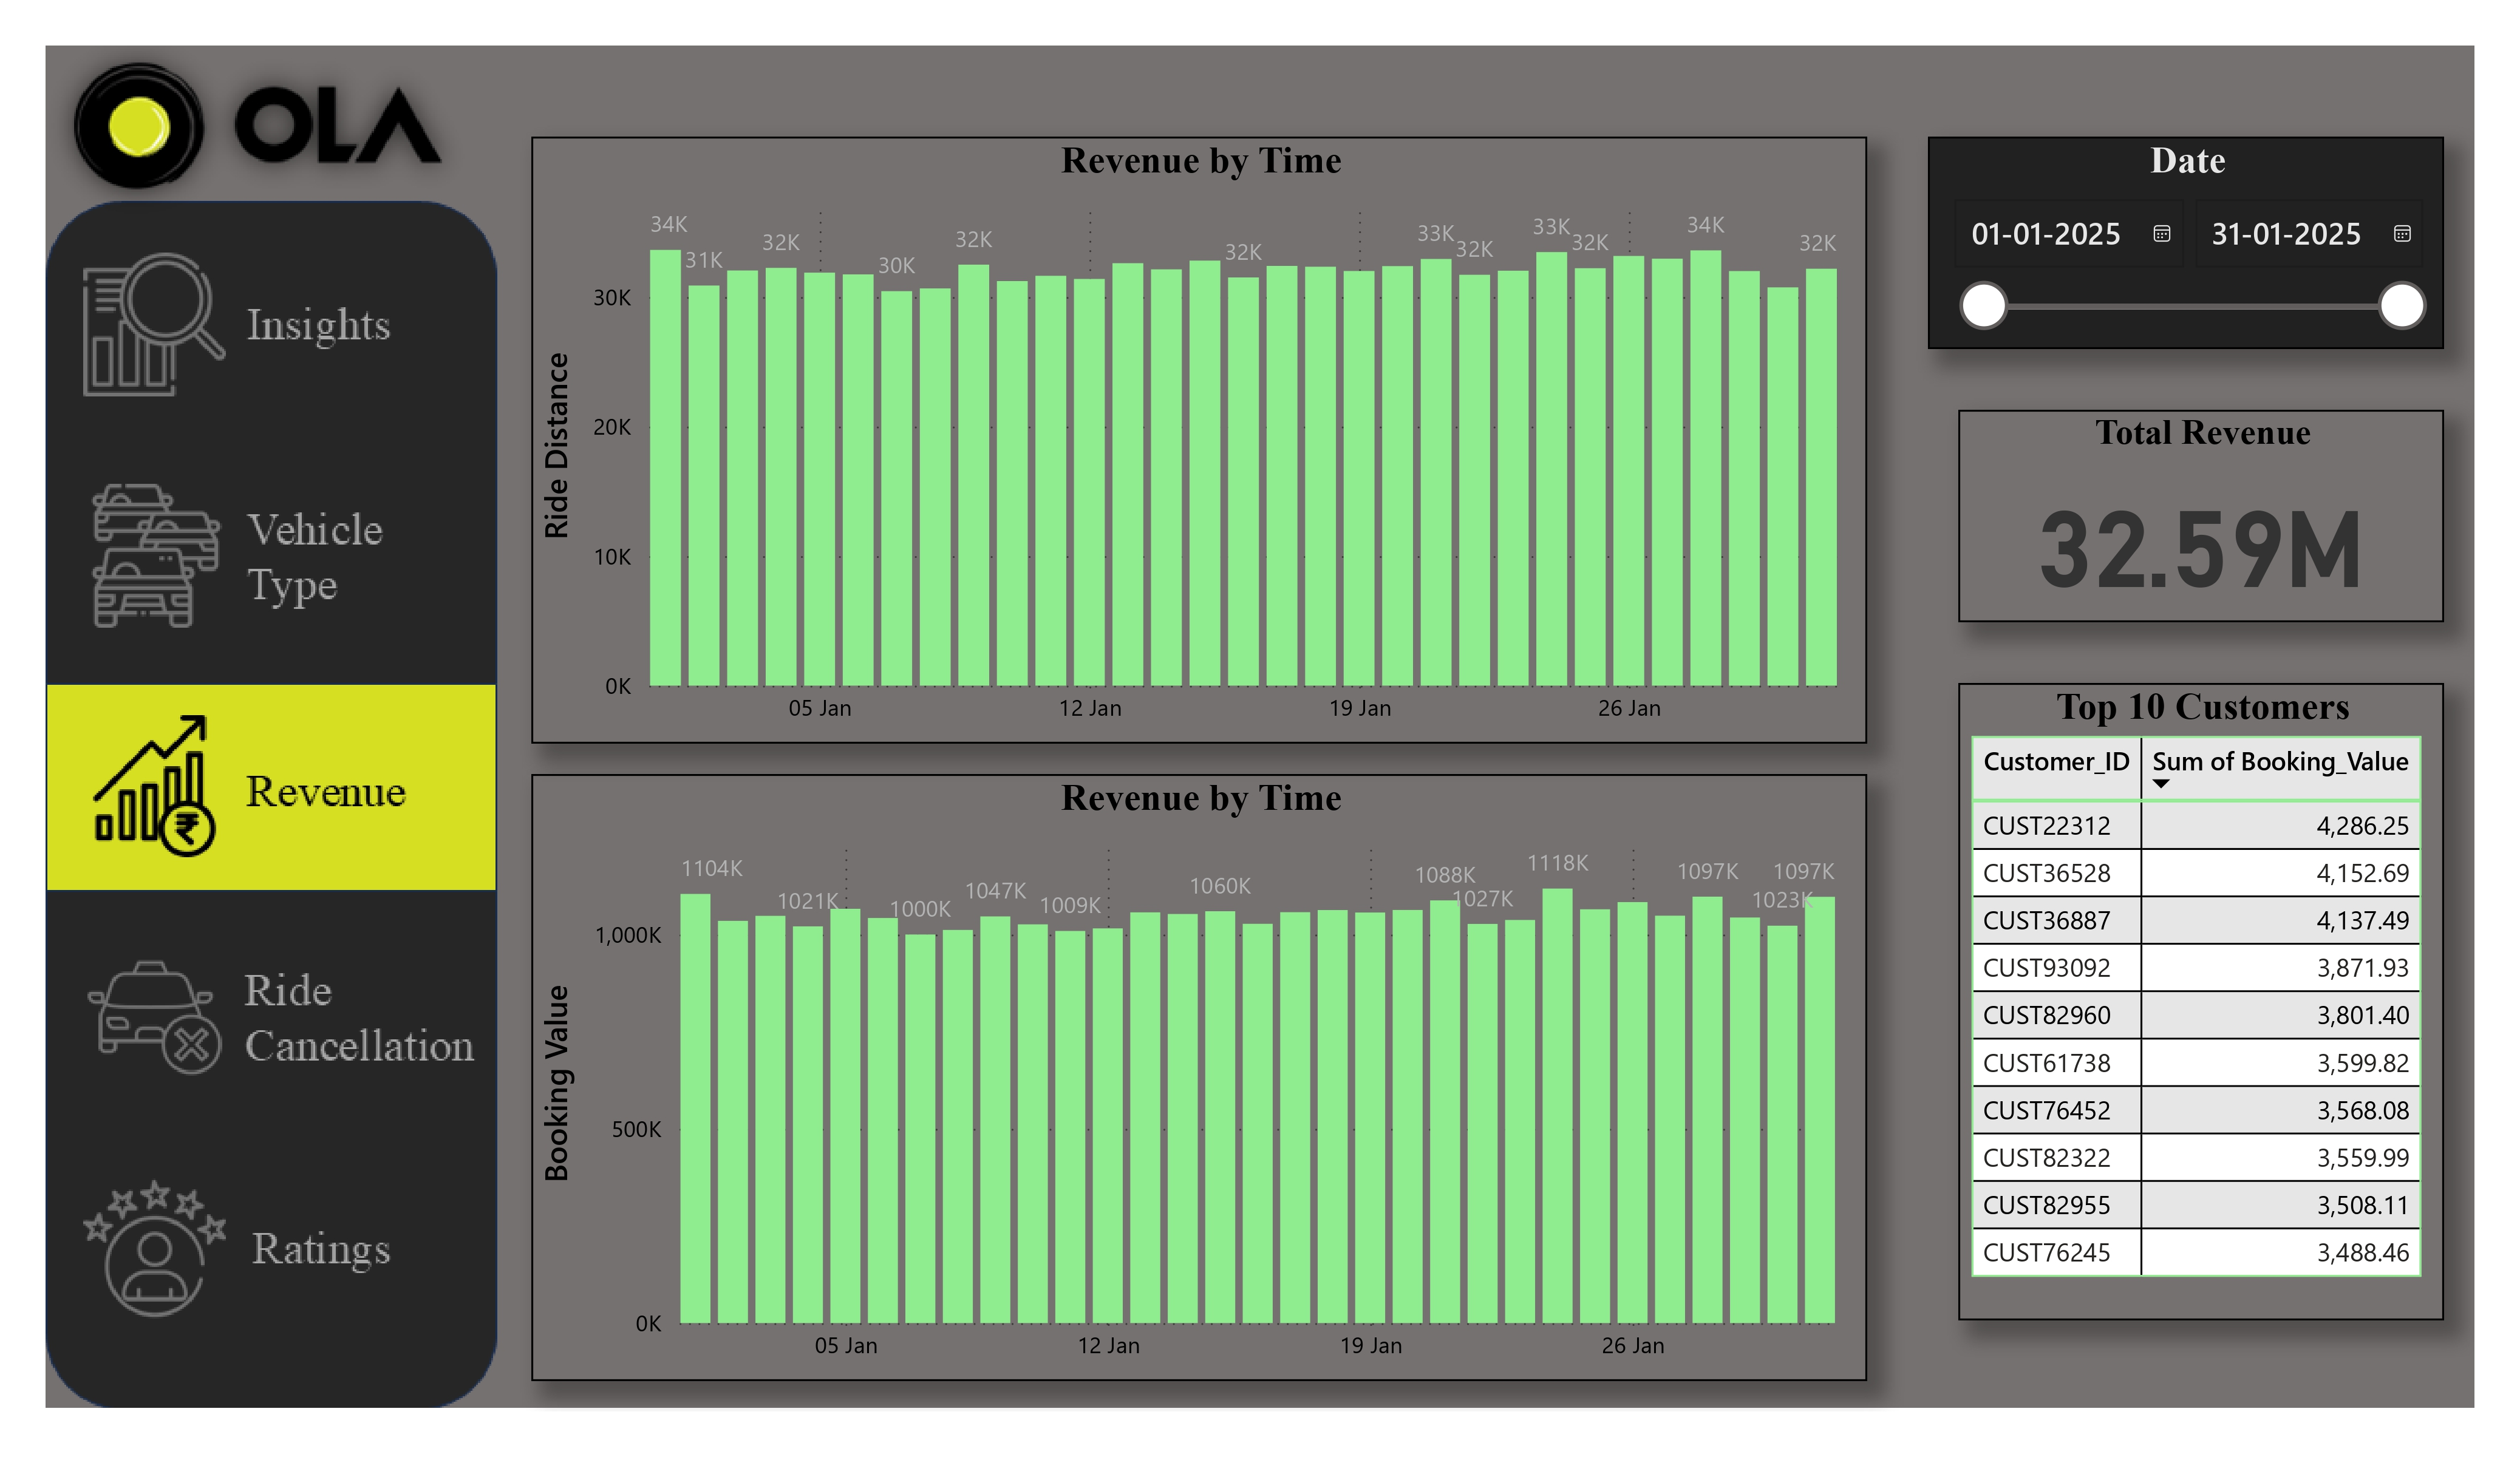

This screenshot's page, from the dashboard's own definition file:
{"tool":"powerbi","page":{"name":"Revenue","canvas":[1280,720],"ordinal":2},"visuals":[{"type":"actionButton","box":[0,224,240,96],"z":0},{"type":"actionButton","box":[0,464,240,96],"z":1000},{"type":"actionButton","box":[0,592,240,96],"z":2000},{"type":"actionButton","box":[0,96,240,112],"z":3000},{"type":"clusteredColumnChart","title":"Revenue by Time","fields":{"Category":["Ola_banglore_ride.Date"],"Y":["Sum(Ola_banglore_ride.Booking_Value)"]},"box":[256,384,704,320],"z":4000},{"type":"tableEx","title":"Top 10  Customers","fields":{"Values":["Ola_banglore_ride.Customer_ID","Sum(Ola_banglore_ride.Booking_Value)"]},"box":[1008,336,256,336],"z":5000},{"type":"slicer","title":"Date","fields":{"Values":["Ola_banglore_ride.Date"]},"box":[992,48,272,112],"z":6000},{"type":"clusteredColumnChart","title":"Revenue by Time","fields":{"Category":["Ola_banglore_ride.Date"],"Y":["Sum(Ola_banglore_ride.Ride_Distance)"]},"box":[256,48,704,320],"z":6001},{"type":"card","title":"Total Revenue","fields":{"Values":["Sum(Ola_banglore_ride.Booking_Value)"]},"box":[1008,192,256,112],"z":6002}]}

Visuals, with their boxes on the page's 1280x720 design canvas (x1, y1, x2, y2). These are canvas units, not pixel positions in the 2520x1457 screenshot, which may show the page scaled, cropped or inside an application window:
actionButton: (left=0, top=224, right=240, bottom=320)
actionButton: (left=0, top=464, right=240, bottom=560)
actionButton: (left=0, top=592, right=240, bottom=688)
actionButton: (left=0, top=96, right=240, bottom=208)
"Revenue by Time" clusteredColumnChart: (left=256, top=384, right=960, bottom=704)
"Top 10  Customers" tableEx: (left=1008, top=336, right=1264, bottom=672)
"Date" slicer: (left=992, top=48, right=1264, bottom=160)
"Revenue by Time" clusteredColumnChart: (left=256, top=48, right=960, bottom=368)
"Total Revenue" card: (left=1008, top=192, right=1264, bottom=304)
